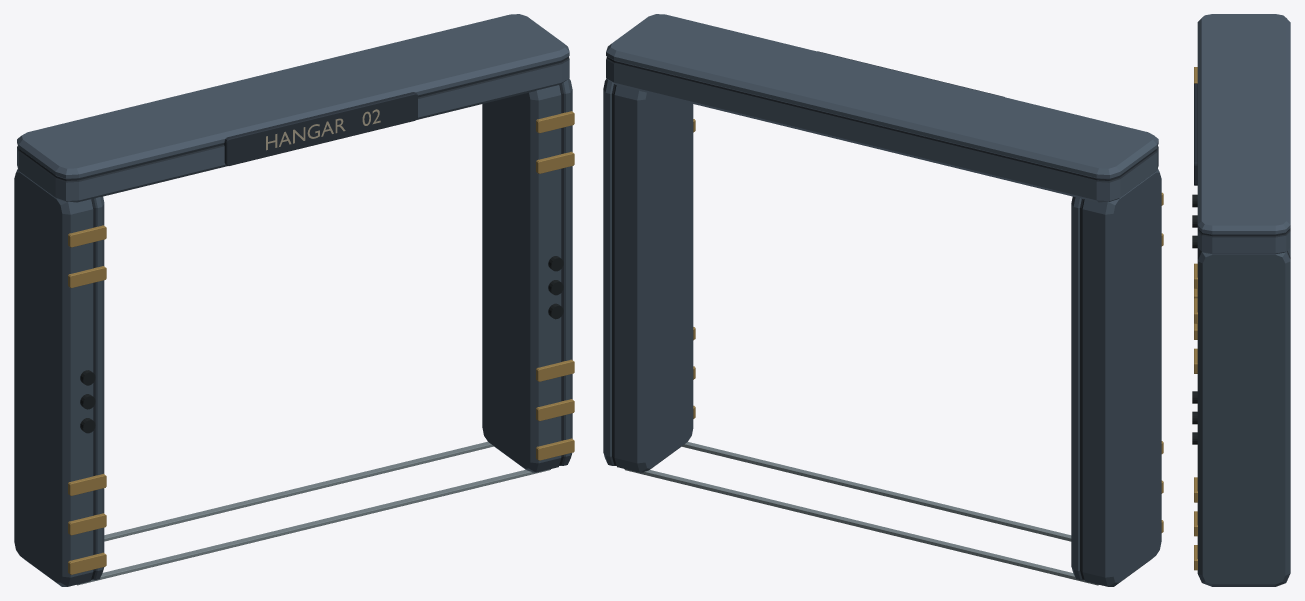
File: F-01_threshold.glb
3 views of the same model, side by side, from view 1: azimuth 30°, elevation 25°; view 2: azimuth 150°, elevation 25°; view 3: azimuth 270°, elevation 25° (orthographic). The views are drawn at different scales.
Visible parts, largest first — view 1: F-01_threshold; view 2: F-01_threshold; view 3: F-01_threshold.
Part boxes in pixels (bbox=[...]): F-01_threshold: bbox=[14, 14, 574, 586]; F-01_threshold: bbox=[603, 14, 1163, 586]; F-01_threshold: bbox=[1192, 14, 1290, 586].
Size of the model in its own units: 4.49 by 3.53 by 0.865.
